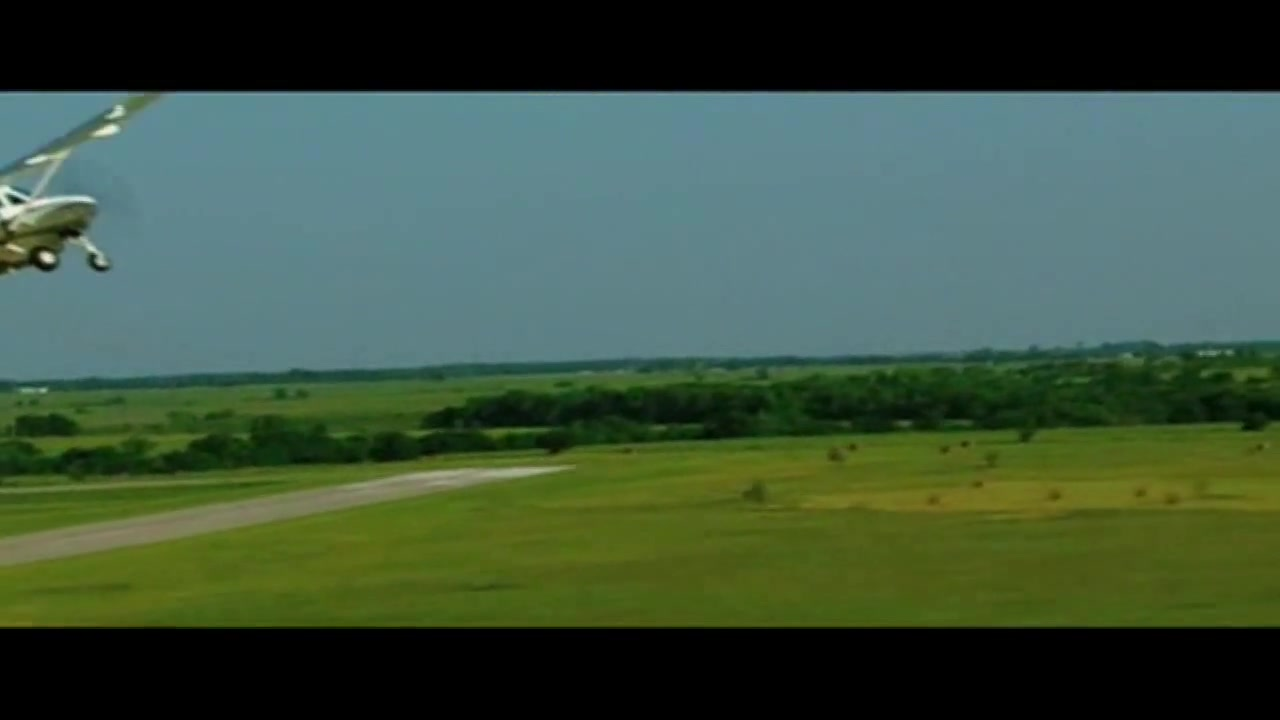aeroplane: (1, 94, 169, 286)
